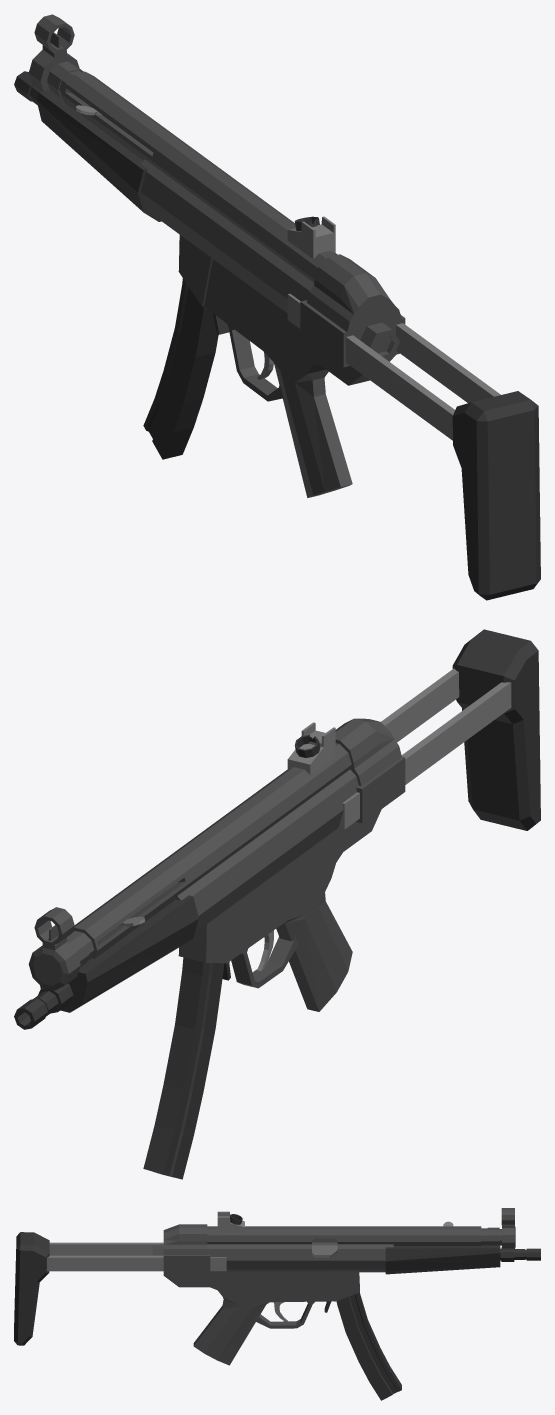
3 views of the same model, one above another, from view 1: azimuth 30°, elevation 25°; view 2: azimuth 150°, elevation 25°; view 3: azimuth 270°, elevation 25° (orthographic). The views are drawn at different scales.
Parts seen in each view (by area): view 1: MP5, Magazin; view 2: MP5, Magazin; view 3: MP5, Magazin, Bolt.
Part boxes in pixels (left/top/right/bottom): MP5: left=14, top=14, right=540, bottom=600; Magazin: left=143, top=278, right=218, bottom=459; MP5: left=14, top=629, right=540, bottom=1029; Magazin: left=143, top=957, right=224, bottom=1179; MP5: left=14, top=1208, right=540, bottom=1365; Magazin: left=336, top=1292, right=401, bottom=1400; Bolt: left=312, top=1221, right=453, bottom=1254.
Size of the model in its own units: 5.57 by 28.58 by 72.21.
1 material, 1 textured.
